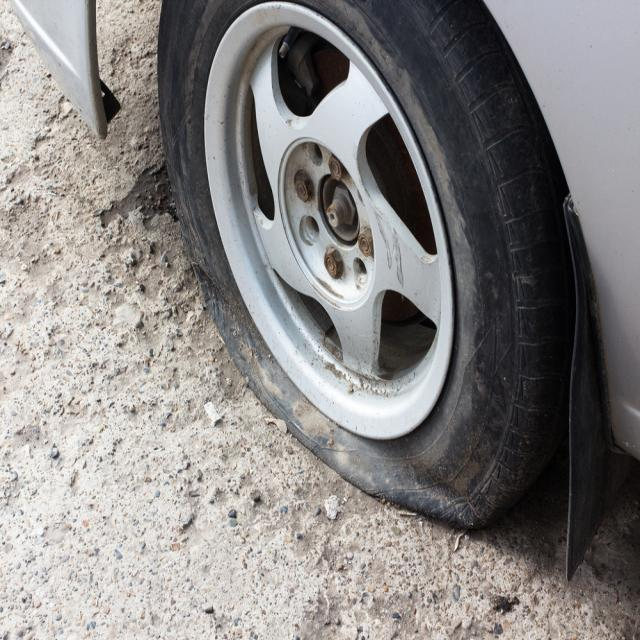tire flat: (156, 0, 559, 530)
